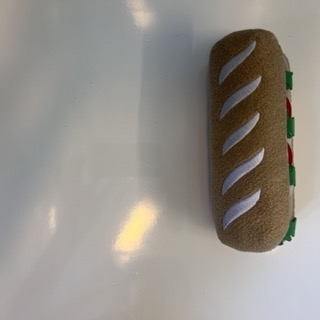sandwich: (206, 28, 297, 253)
